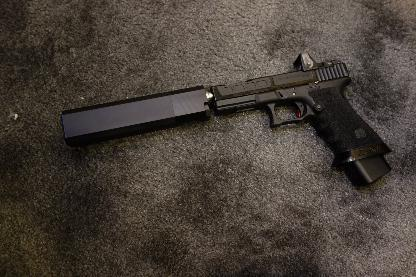pistol: (210, 49, 390, 188)
